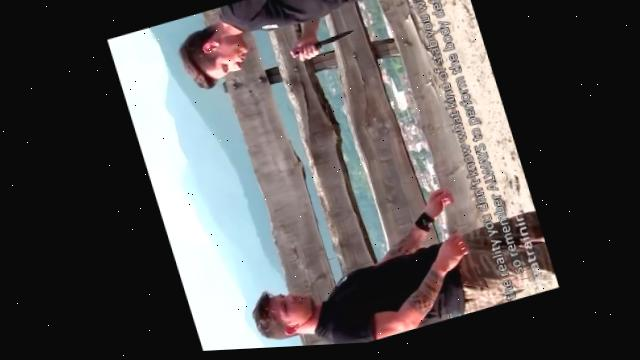pocket-knife: (283, 26, 362, 68)
